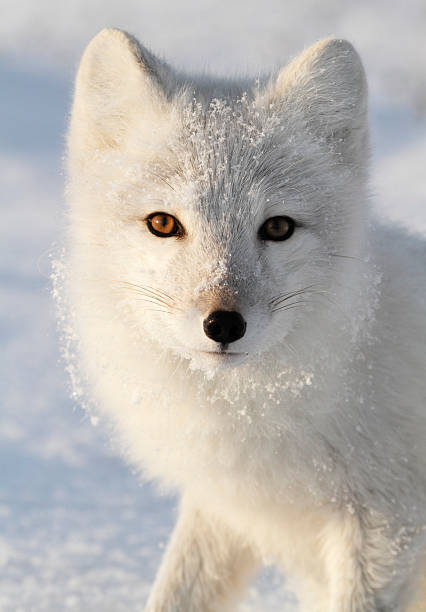arcticfox: (104, 117, 349, 415)
